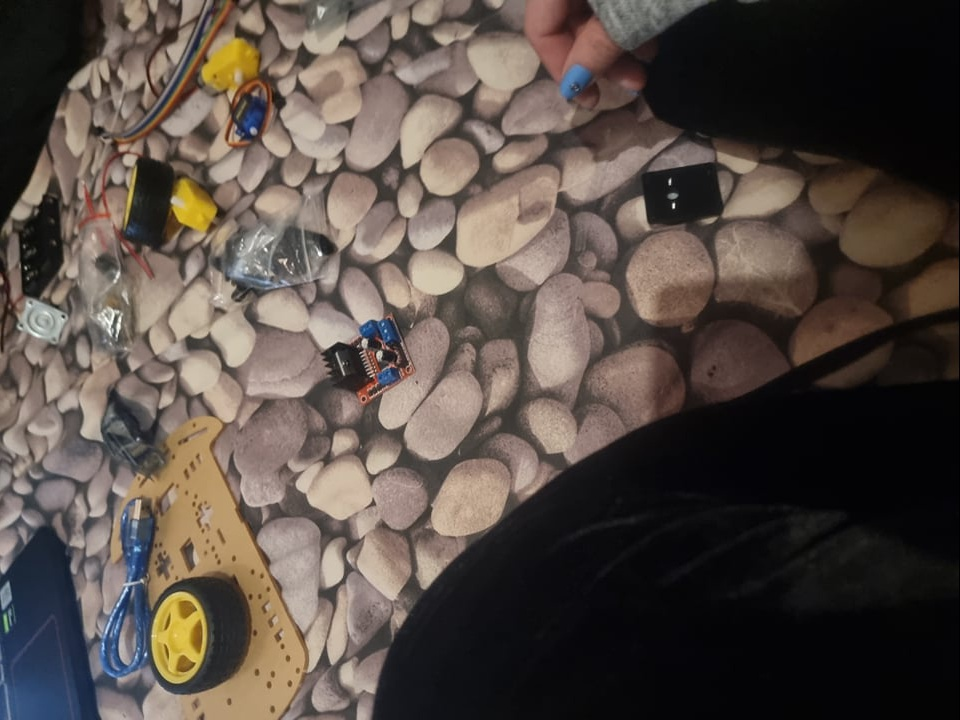BATTERY BOX: (13, 188, 68, 297)
MOTOR: (325, 312, 418, 406)
